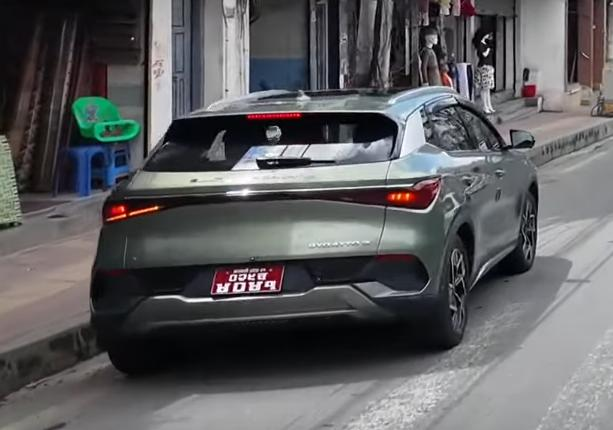car: (103, 90, 547, 369)
